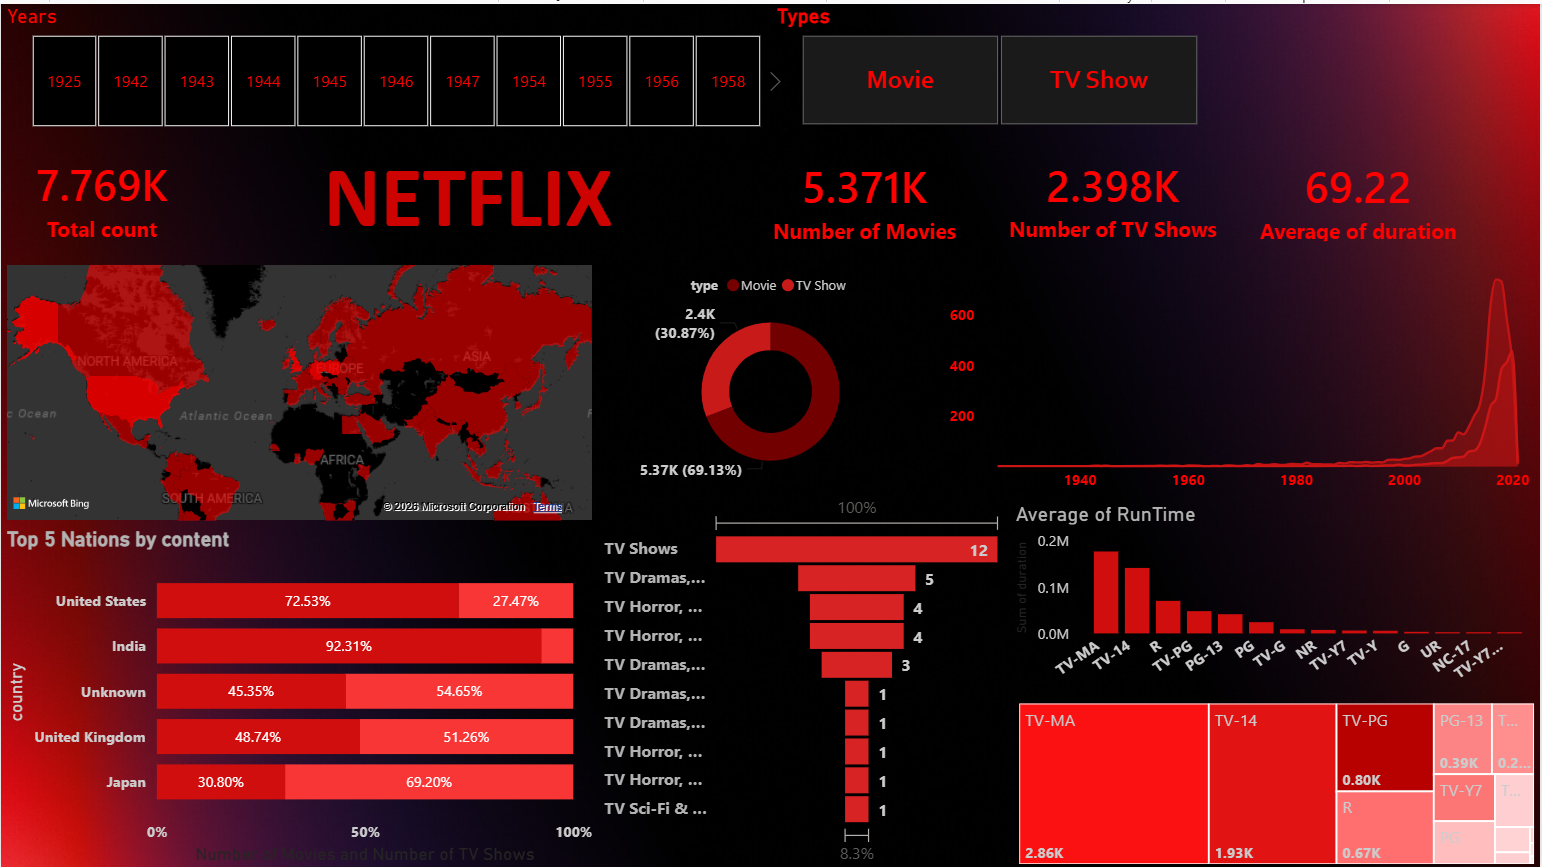

What the dashboard file says about the page in this screenshot:
{"tool":"powerbi","page":{"name":"Page 1","canvas":[1280,720],"ordinal":0},"visuals":[{"type":"filledMap","fields":{"Category":["NetFlix.country"]},"box":[0,211.8,496.6,222.5],"z":0},{"type":"cardVisual","fields":{"Data":["NetFlix.movies"]},"box":[607.4,111.1,222.2,103.9],"z":1000},{"type":"cardVisual","fields":{"Data":["NetFlix.Number of TV Shows"]},"box":[805.1,109.6,238.1,102.4],"z":2000},{"type":"slicer","title":"Types","fields":{"Values":["NetFlix.type"]},"box":[640.6,0,378,106.8],"z":3000},{"type":"lineChart","fields":{"Category":["NetFlix.release_year"],"Series":["NetFlix.type"],"Y":["CountNonNull(NetFlix.type)"]},"box":[783.1,215.4,496.6,199.3],"z":4000},{"type":"slicer","title":"Years","fields":{"Values":["NetFlix.release_year"]},"box":[0,0,655.1,108.6],"z":5000},{"type":"cardVisual","fields":{"Data":["CountNonNull(NetFlix.type)"]},"box":[0,108.6,168.9,106.2],"z":6000},{"type":"donutChart","fields":{"Category":["NetFlix.type"],"Y":["CountNonNull(NetFlix.type)"]},"box":[496.6,215.4,286.5,186.9],"z":7000},{"type":"funnel","fields":{"Category":["NetFlix.genres"],"Y":["CountNonNull(NetFlix.rating)"]},"box":[496.3,402.5,341.9,318.9],"z":8000},{"type":"hundredPercentStackedBarChart","title":"Top 5 Nations by content","fields":{"Category":["NetFlix.country"],"Y":["NetFlix.Number of Movies","NetFlix.Number of TV Shows"]},"box":[0,434,497,286],"z":9000},{"type":"clusteredColumnChart","title":"Average of RunTime","fields":{"Category":["NetFlix.rating"],"Y":["Sum(NetFlix.duration)"]},"box":[838.5,413.8,441.6,162.9],"z":10000},{"type":"cardVisual","fields":{"Data":["Avg(NetFlix.duration)"]},"box":[978.2,111.1,301.5,103.9],"z":11000},{"type":"treemap","fields":{"Group":["NetFlix.rating"],"Values":["CountNonNull(NetFlix.type)"]},"box":[842.1,576.7,437.9,143.6],"z":12000},{"type":"textbox","box":[168.9,111,437.9,101.3],"z":12001}]}

Visuals, with their boxes in screenshot pixels (x1, y1, x2, y2), scaled from the page's 1280x720 canvas onto the 1542x867 screenshot:
filledMap - NetFlix.country: bbox=(0, 255, 598, 523)
cardVisual - NetFlix.movies: bbox=(732, 134, 999, 259)
cardVisual - NetFlix.Number of TV Shows: bbox=(970, 132, 1257, 255)
"Types" slicer: bbox=(772, 0, 1227, 129)
lineChart - NetFlix.release_year x NetFlix.type: bbox=(943, 259, 1541, 499)
"Years" slicer: bbox=(0, 0, 789, 131)
cardVisual - CountNonNull(NetFlix.type): bbox=(0, 131, 203, 259)
donutChart - NetFlix.type x CountNonNull(NetFlix.type): bbox=(598, 259, 943, 484)
funnel - NetFlix.genres x CountNonNull(NetFlix.rating): bbox=(598, 485, 1010, 866)
"Top 5 Nations by content" hundredPercentStackedBarChart: bbox=(0, 523, 599, 866)
"Average of RunTime" clusteredColumnChart: bbox=(1010, 498, 1541, 694)
cardVisual - Avg(NetFlix.duration): bbox=(1178, 134, 1541, 259)
treemap - NetFlix.rating x CountNonNull(NetFlix.type): bbox=(1014, 694, 1541, 866)
textbox: bbox=(203, 134, 731, 256)
